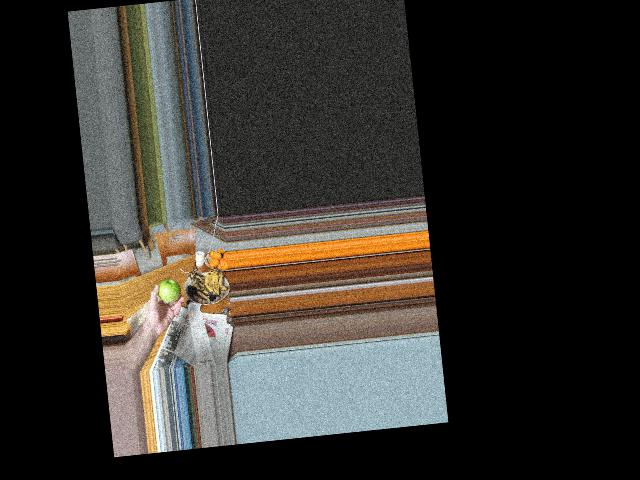apple: (156, 278, 179, 303)
